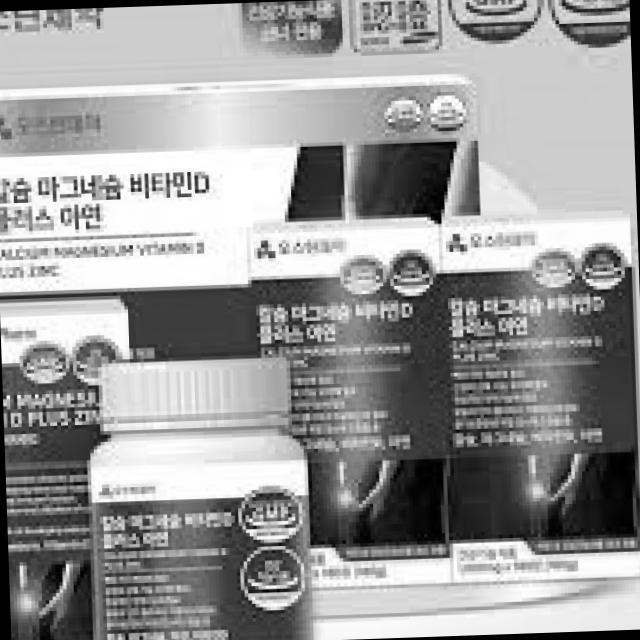GMP: (450, 0, 541, 41)
HEALTHY: (546, 0, 630, 45)
